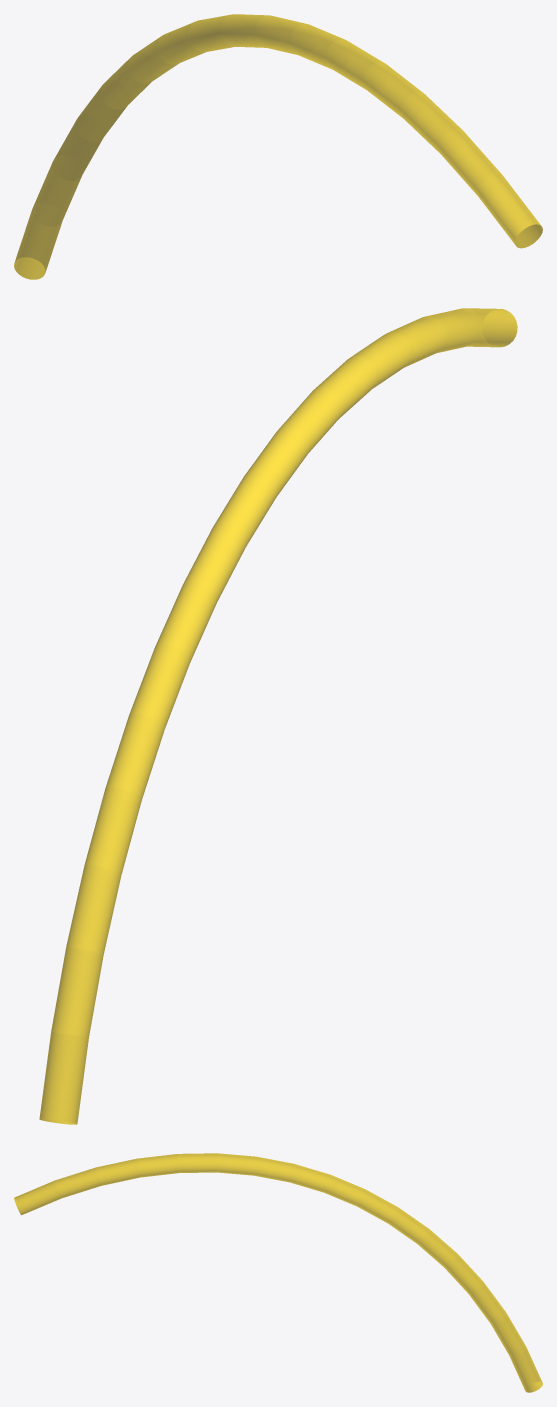
Rendered from Event_17758602_track_86.fbx.
The picture shows the model from 3 angles, top to bottom: view 1: azimuth 30°, elevation 25°; view 2: azimuth 150°, elevation 25°; view 3: azimuth 270°, elevation 25°; orthographic projection. The views are drawn at different scales.
Parts seen in each view (by area): view 1: Model; view 2: Model; view 3: Model.
Part boxes in pixels (x1,y1,x2,y2): Model: [14, 14, 542, 279]; Model: [39, 308, 517, 1124]; Model: [14, 1153, 542, 1392].
Bounding box in the file's own units: 0.1292 × 0.5689 × 1.1.
